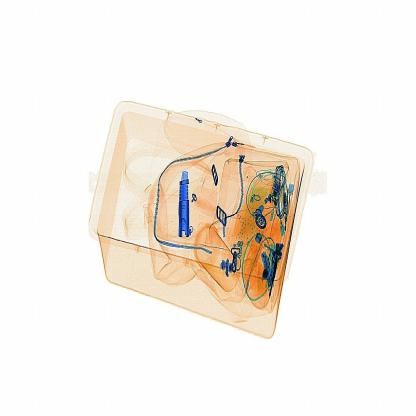pliers: (168, 162, 201, 246)
